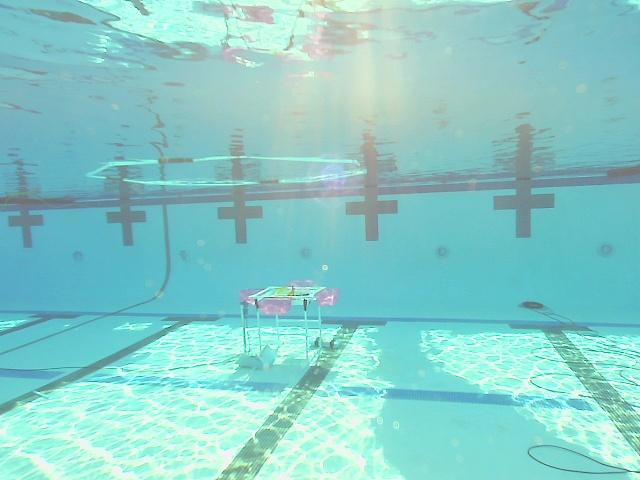table: (239, 279, 341, 372)
